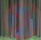No Stopping: (0, 0, 40, 38)
